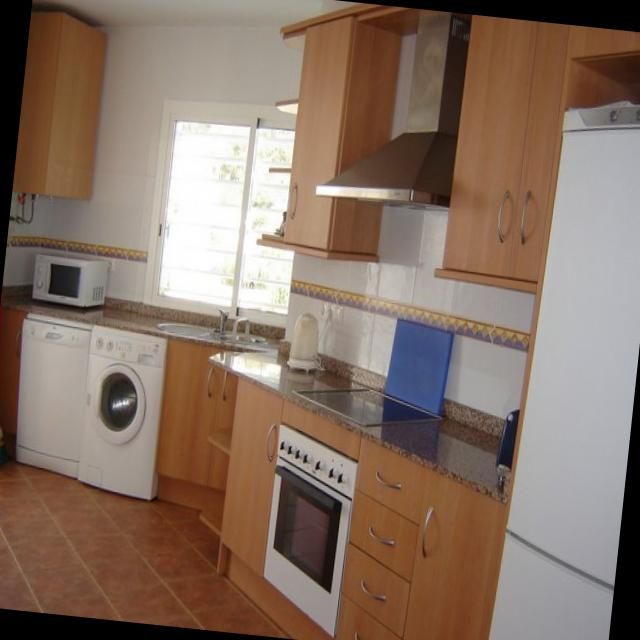2001: (143, 97, 312, 327)
dishwasher: (13, 315, 95, 477)
drawer handle: (356, 434, 427, 525)
floor -X: (0, 466, 288, 634)
fridge crop: (486, 106, 640, 640)
kettle: (286, 312, 321, 371)
kitchen utensils: (282, 14, 400, 255)
microwave oven: (32, 251, 107, 307)
oven cloth: (263, 419, 360, 638)
range hood: (314, 12, 472, 208)
stove burner: (296, 388, 442, 423)
wall clock: (7, 28, 296, 298), (286, 209, 528, 435)
washing machine crop: (88, 322, 168, 501)
